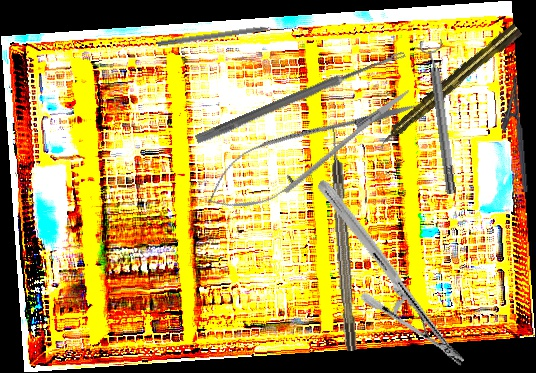Fixation Ring: (418, 38, 463, 196)
Handpiece: (373, 21, 524, 152)
Hook Surgical: (328, 126, 357, 352), (157, 23, 286, 48)
Micro Scissor: (194, 71, 427, 229)
Needle Holder: (274, 179, 508, 367), (496, 75, 529, 194)
Surgical Spoon: (194, 47, 407, 146)
